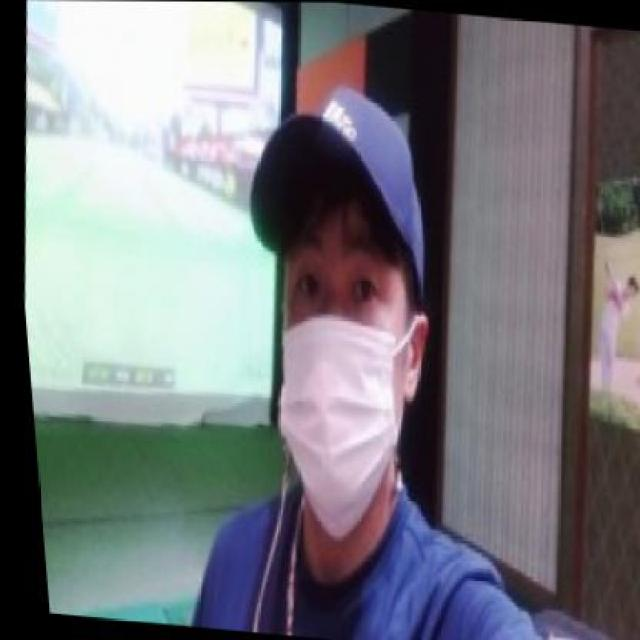hat: (229, 67, 442, 311)
